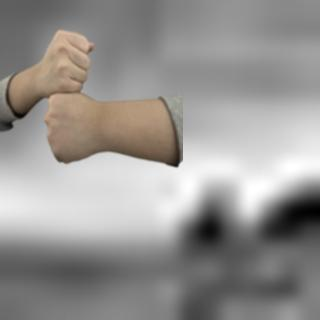CAREFUL: (7, 27, 158, 164)
